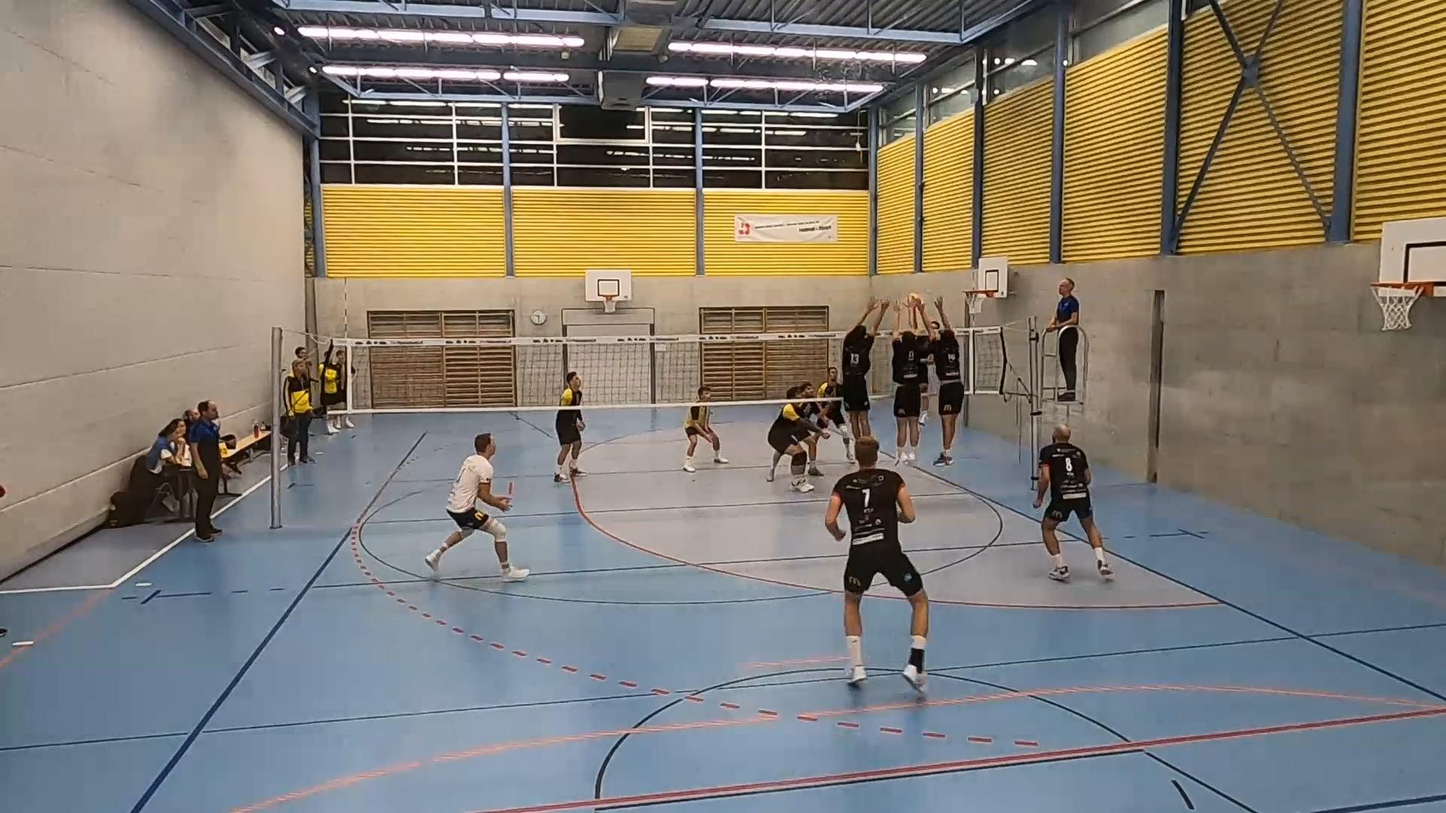attacco: (911, 302, 942, 429)
muro: (915, 293, 969, 473), (888, 298, 934, 469), (839, 299, 888, 456)
